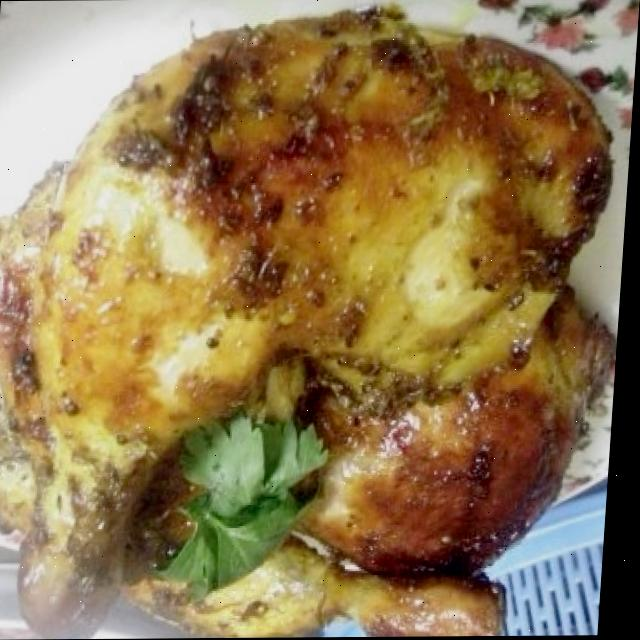鸡肉料理 含炸鸡: (0, 9, 634, 640)
